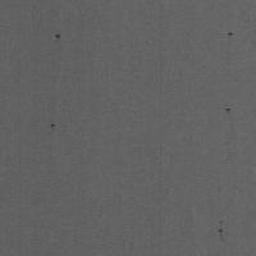Inclusion: (218, 221, 224, 234)
